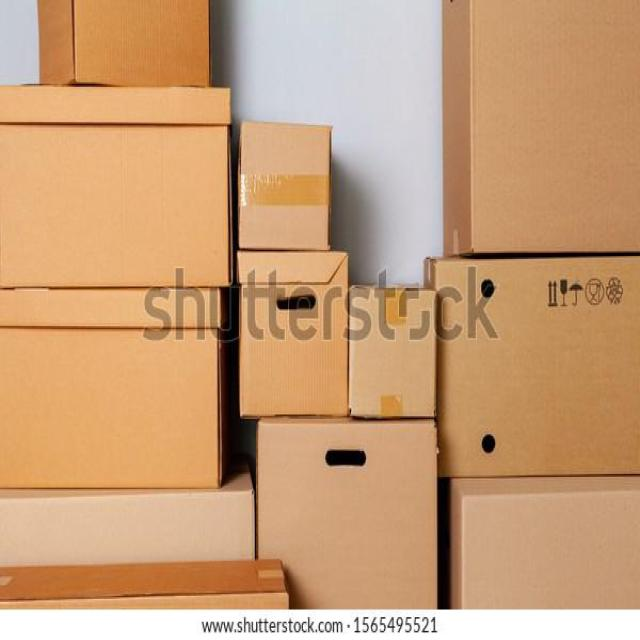Organik: (435, 248, 640, 488), (254, 408, 445, 640), (450, 474, 640, 640), (228, 241, 351, 416), (231, 108, 334, 250), (348, 270, 442, 422)
